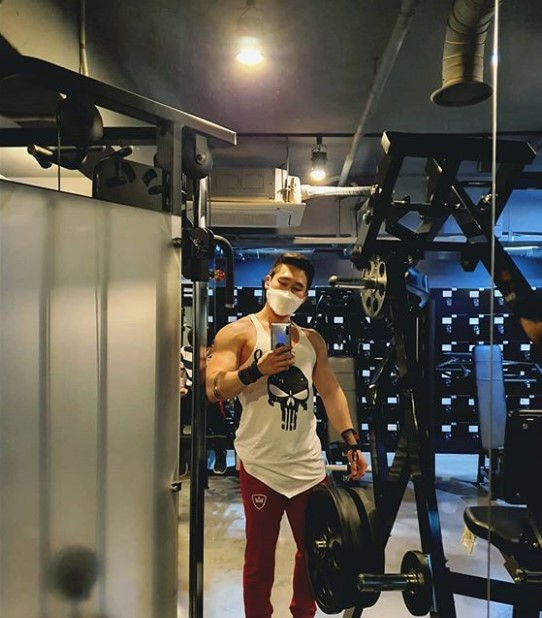face_with_mask: (264, 252, 311, 323)
